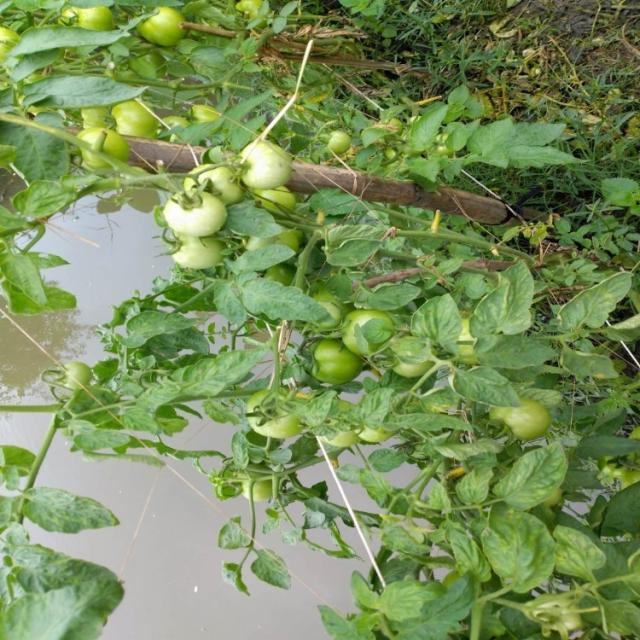tomato: (160, 189, 231, 241), (238, 135, 294, 189), (305, 338, 365, 387), (185, 162, 246, 209), (489, 391, 541, 441), (110, 97, 162, 144), (74, 128, 126, 173), (162, 237, 222, 275), (335, 305, 385, 348), (132, 10, 186, 49), (249, 382, 288, 435), (63, 5, 120, 35), (387, 333, 420, 377), (235, 476, 277, 509), (312, 297, 347, 336), (327, 126, 359, 160), (76, 101, 109, 133)
